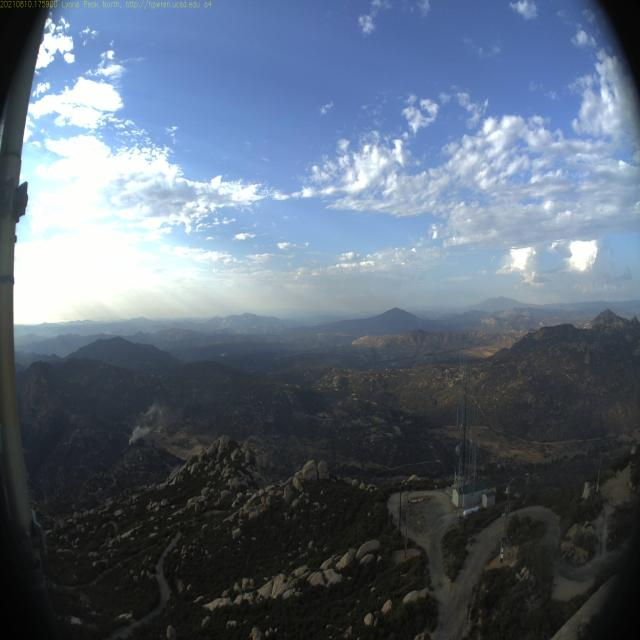smoke: (137, 402, 183, 436), (129, 423, 150, 448)
